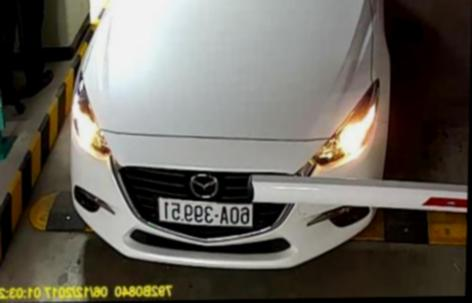License_Plate: (155, 197, 255, 230)
